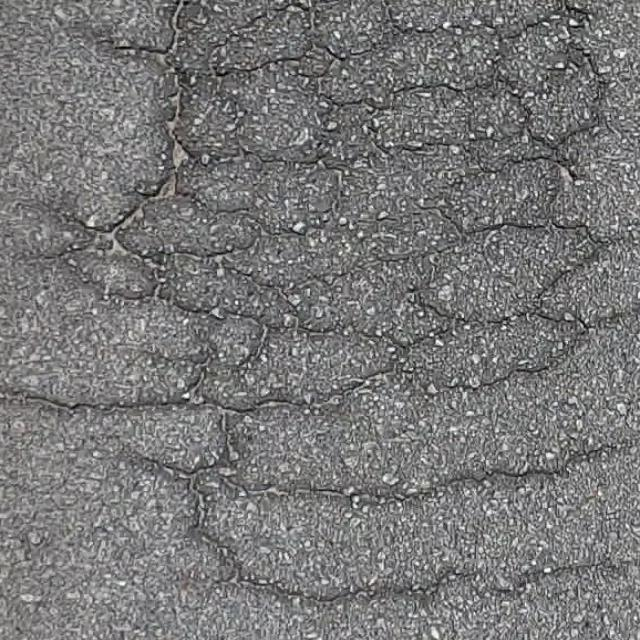GRIETA: (54, 14, 158, 54), (0, 385, 114, 413)
PIEL DE COCODRILO: (62, 1, 639, 610)
